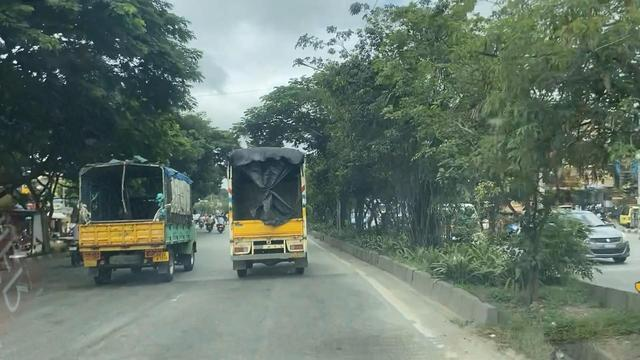HMV: (210, 124, 325, 299), (75, 153, 206, 281)
